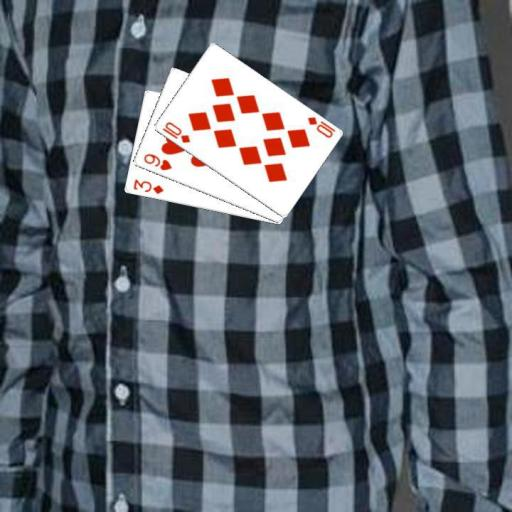10D: (304, 114, 337, 139), (160, 119, 192, 144)
3D: (129, 177, 165, 196)
9H: (140, 151, 173, 172)
